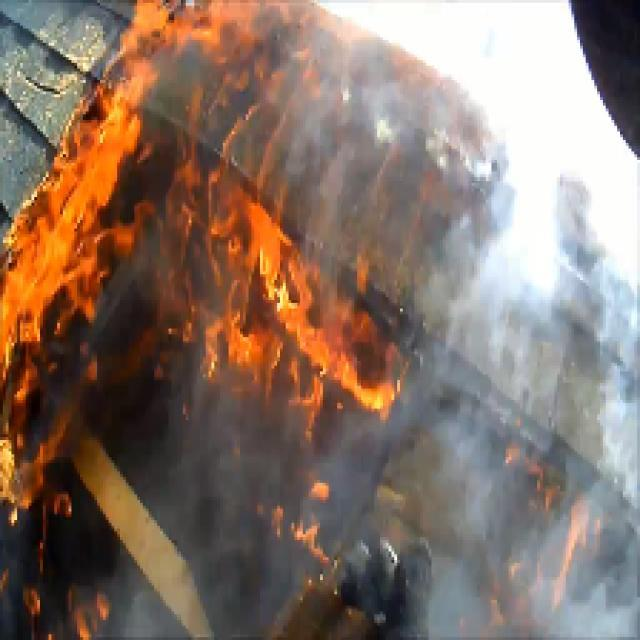Fire: (11, 162, 106, 312), (244, 257, 348, 360), (90, 101, 136, 160)
